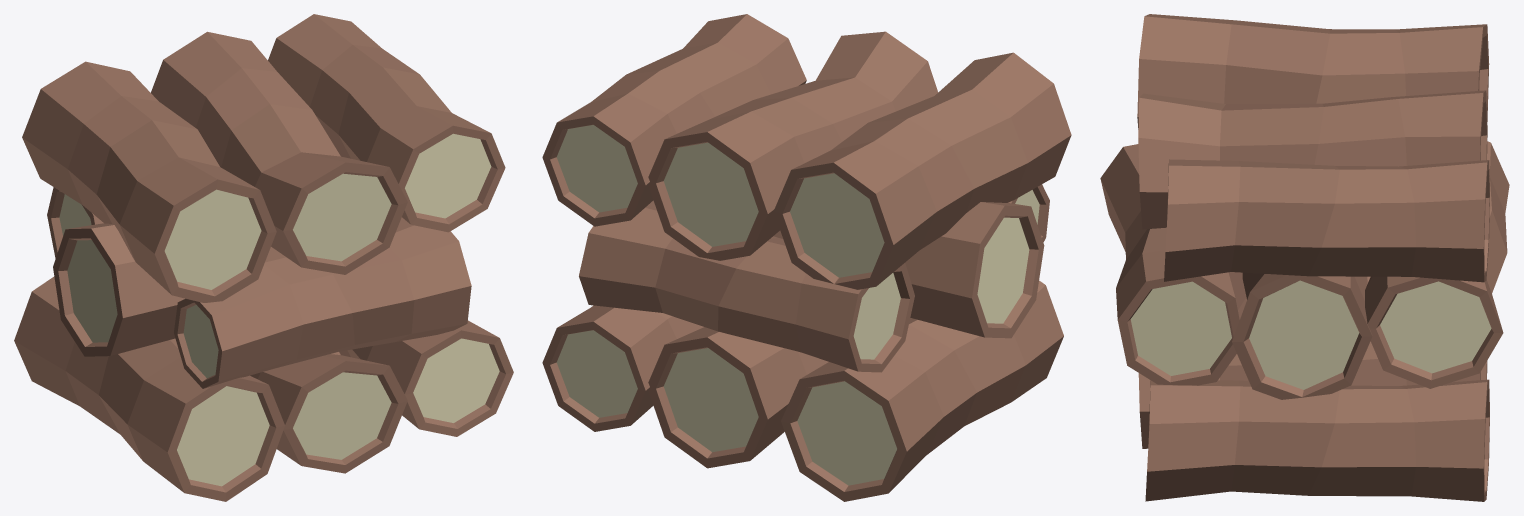
Rendered from Logs.fbx.
3 renders of one model, left to right at view 1: azimuth 30°, elevation 25°; view 2: azimuth 150°, elevation 25°; view 3: azimuth 270°, elevation 25°, orthographic. The views are drawn at different scales.
Parts seen in each view (by area): view 1: Cylinder.003; view 2: Cylinder.003; view 3: Cylinder.003.
Boxes of the visible parts, box(x1,y1,x2,y2) form: Cylinder.003: box(14, 14, 513, 501); Cylinder.003: box(542, 14, 1071, 501); Cylinder.003: box(1100, 14, 1509, 501).
Size of the model in its own units: 259 by 220 by 226.
